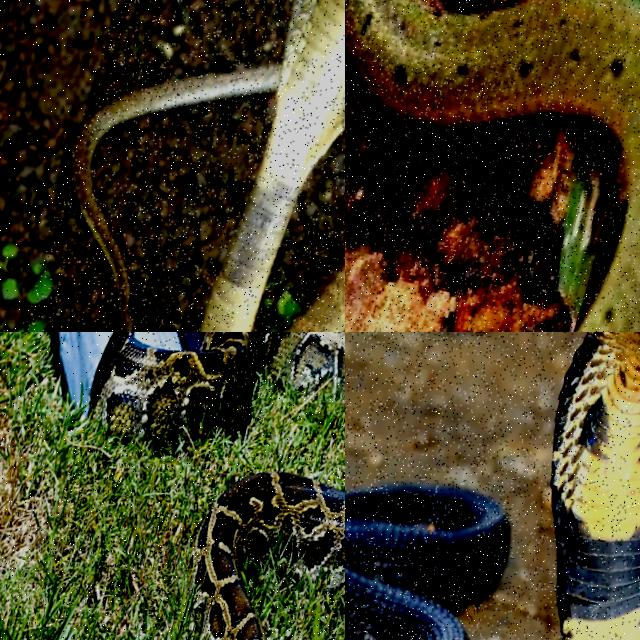Calliophis maculiceps: (345, 0, 639, 331)
Naja kaouthia: (71, 0, 344, 331)
Ophiophagus hannah: (551, 332, 639, 639)
Python bivittatus: (93, 332, 344, 447)
